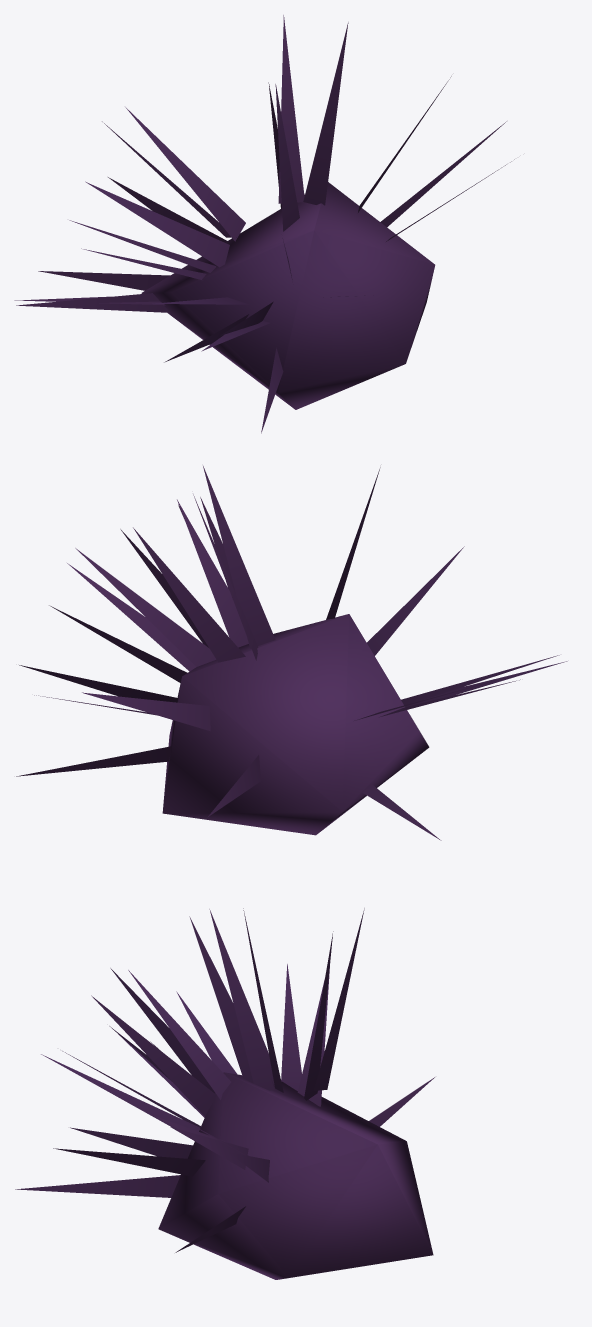
Rendered from shore_gc_urchin_lod2.glb.
The picture shows the model from 3 angles, top to bottom: view 1: azimuth 30°, elevation 25°; view 2: azimuth 150°, elevation 25°; view 3: azimuth 270°, elevation 25°; orthographic projection. The views are drawn at different scales.
Parts seen in each view (by area): view 1: shore_gc_urchin.001; view 2: shore_gc_urchin.001; view 3: shore_gc_urchin.001.
Boxes of the visible parts, x1,y1,x2,y2 form: shore_gc_urchin.001: [14, 15, 514, 433]; shore_gc_urchin.001: [16, 466, 567, 840]; shore_gc_urchin.001: [15, 908, 434, 1279].
Bounding box in the file's own units: 2.14 × 1.53 × 2.19.
